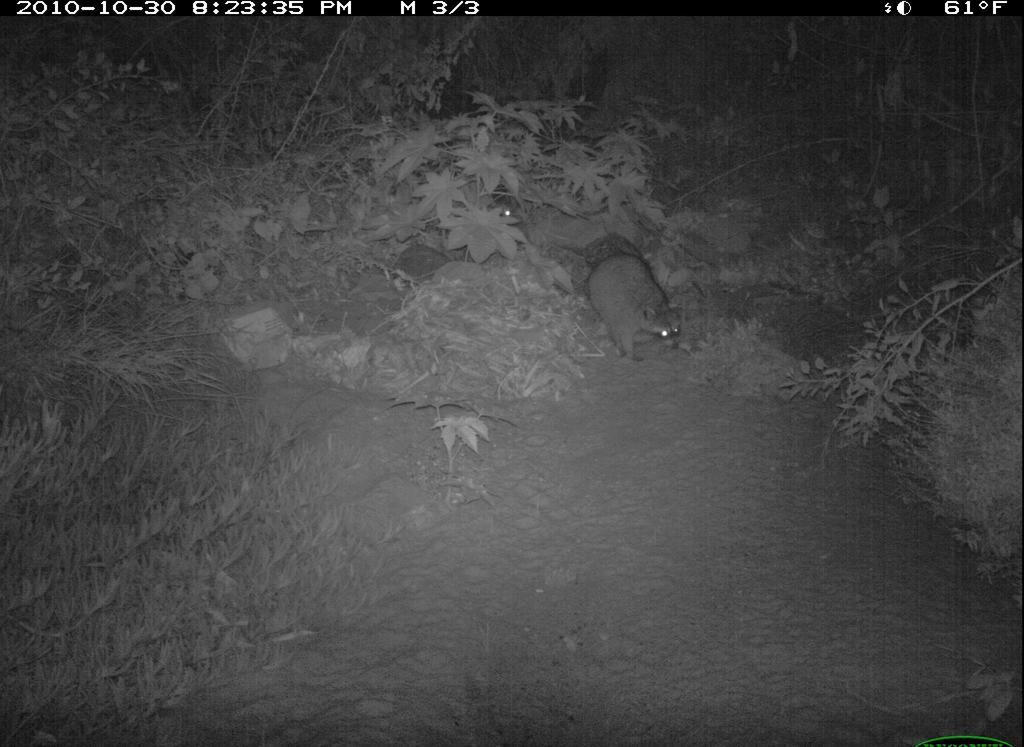raccoon: (580, 239, 698, 377)
